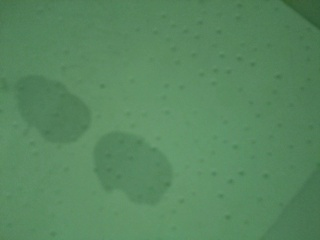Water_detected: (32, 85, 153, 186)
